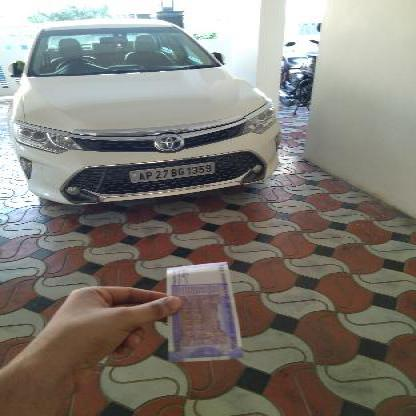New100Back: (160, 262, 236, 358)
